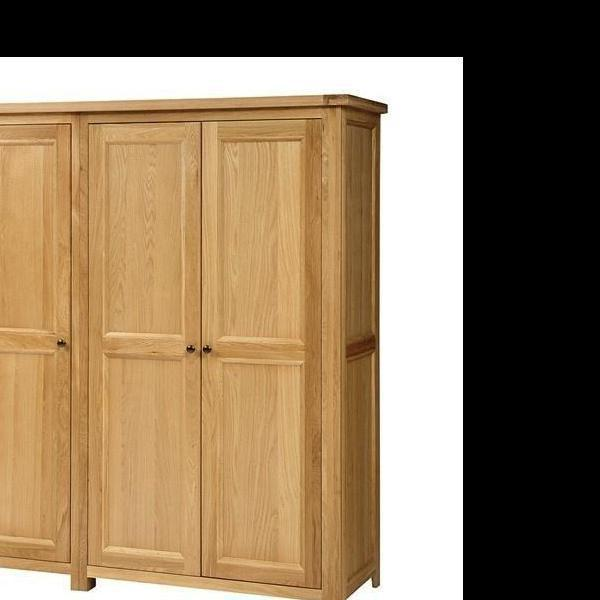Armario: (0, 89, 388, 600)
